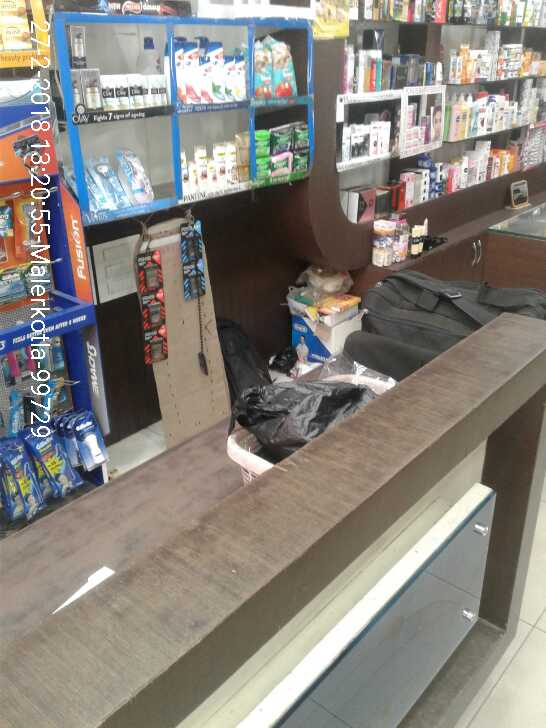gillete: (1, 334, 66, 381), (1, 441, 37, 516), (39, 424, 66, 491), (16, 195, 44, 253), (82, 412, 107, 466), (25, 263, 54, 307), (41, 378, 76, 408), (1, 270, 23, 294), (1, 208, 11, 237)
venus: (100, 164, 125, 207), (83, 164, 100, 214), (128, 150, 143, 201)
